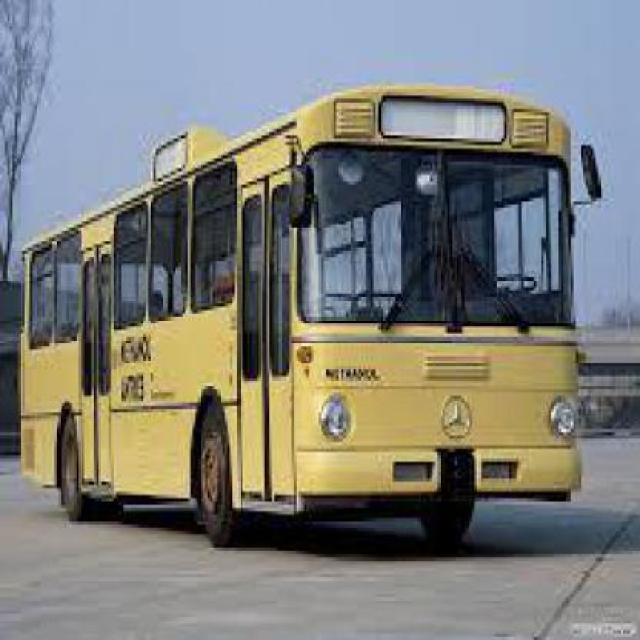bus: (18, 86, 604, 550)
